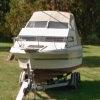Boat: (8, 7, 86, 91)
